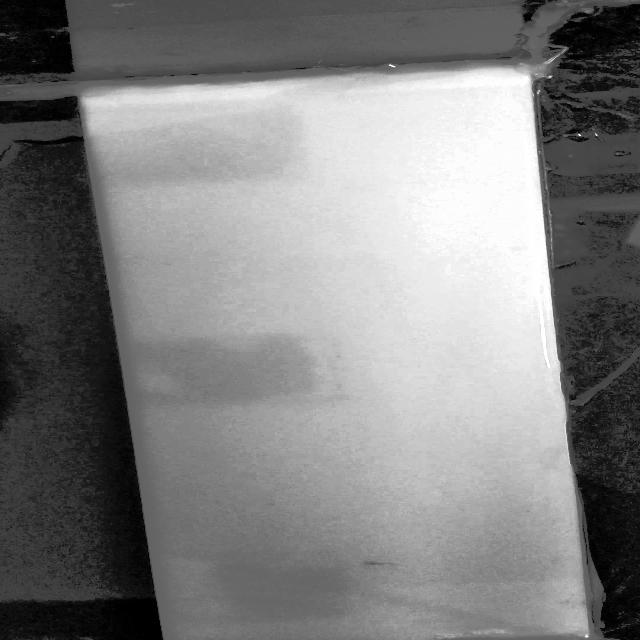shrimp: (363, 558, 403, 573)
